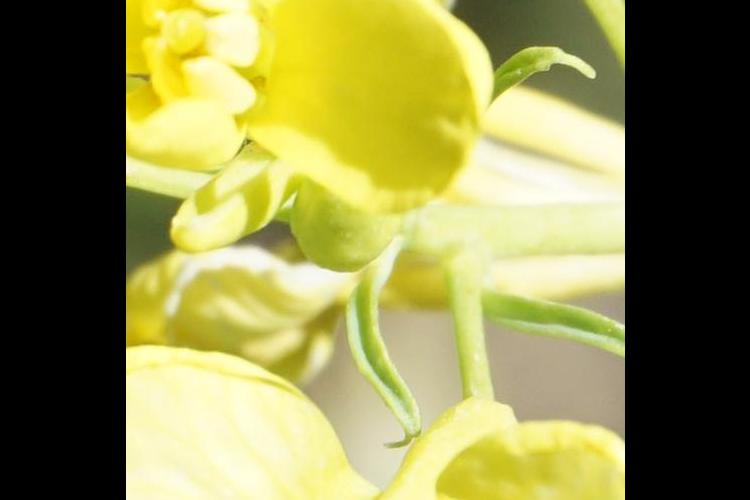yellow: (127, 1, 479, 242), (140, 406, 601, 500)
